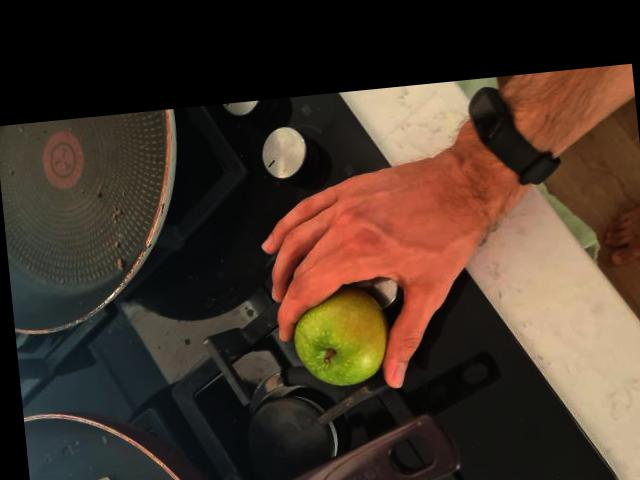apple: (285, 278, 399, 391)
